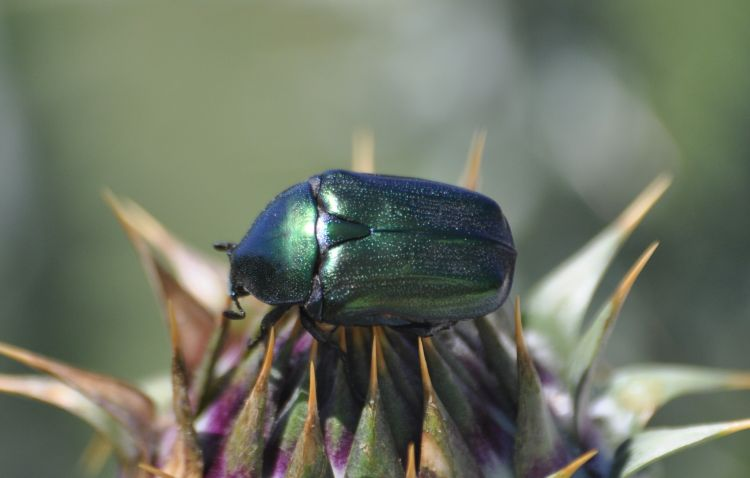Protaetia_angustata_angustata: (201, 158, 529, 415)
